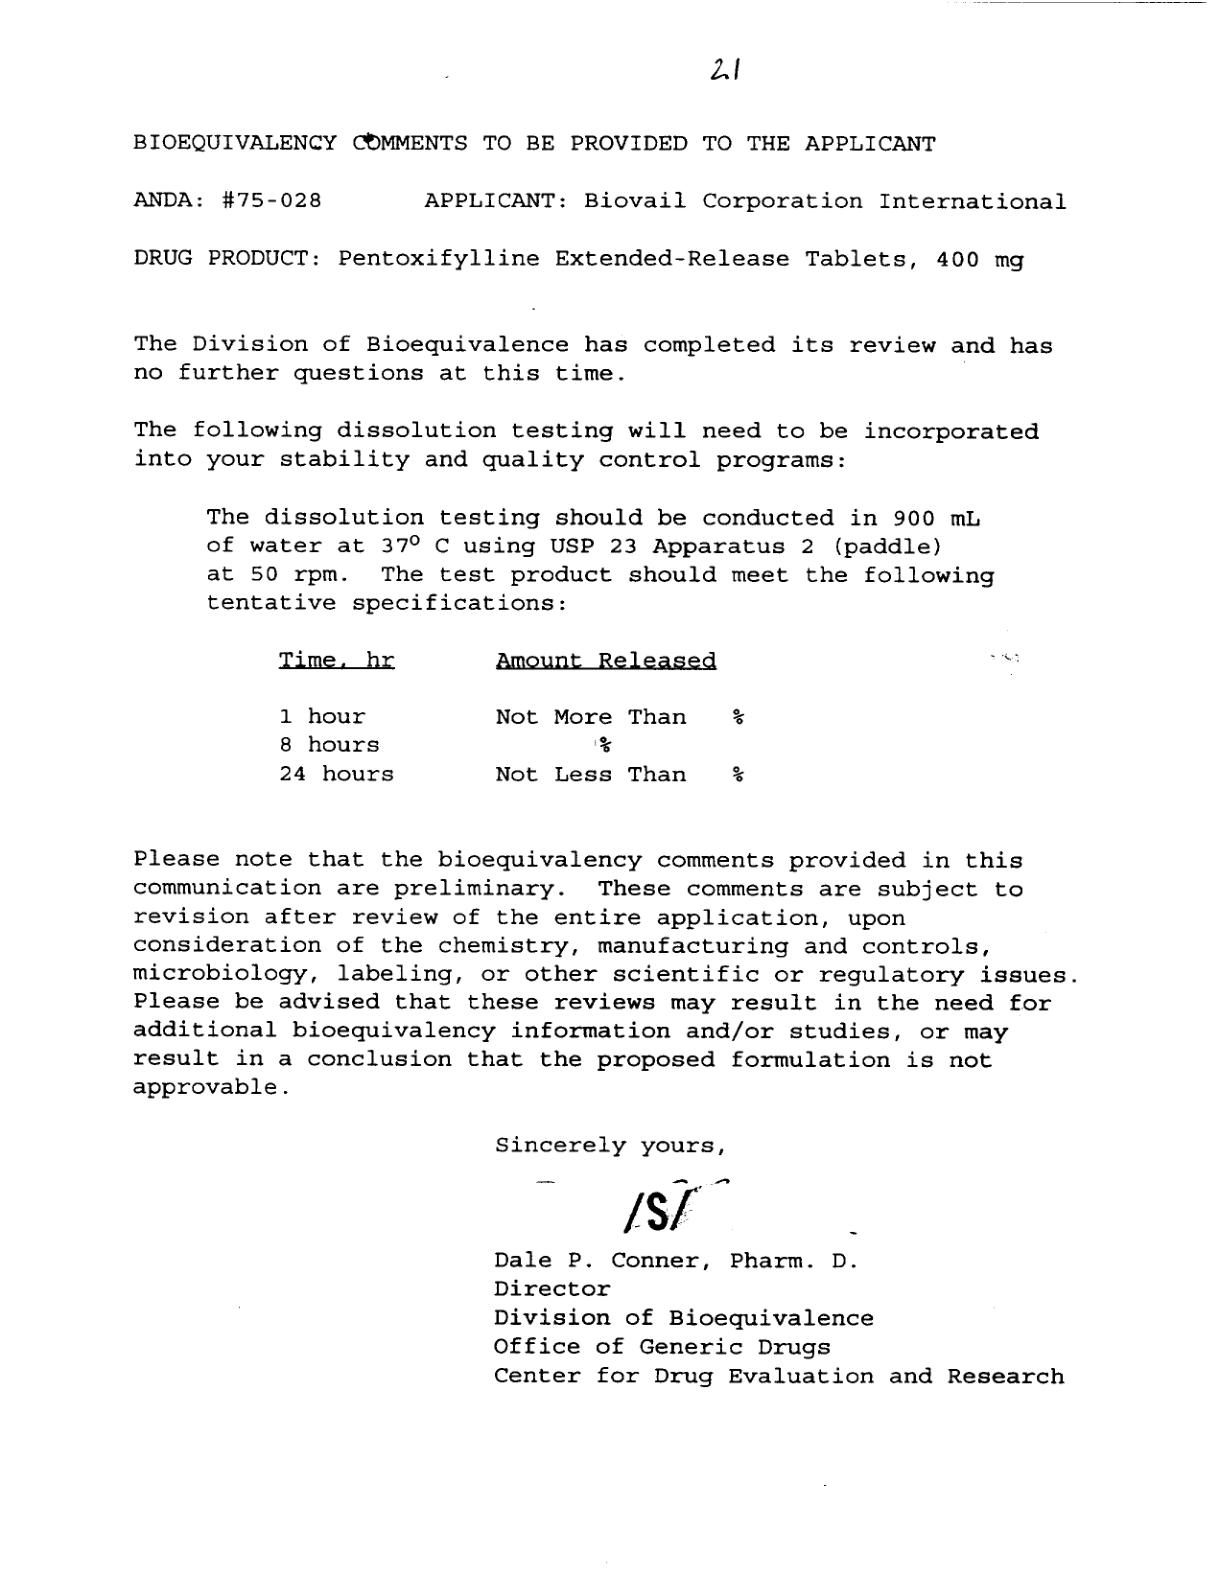nolines: (274, 646, 751, 787)
